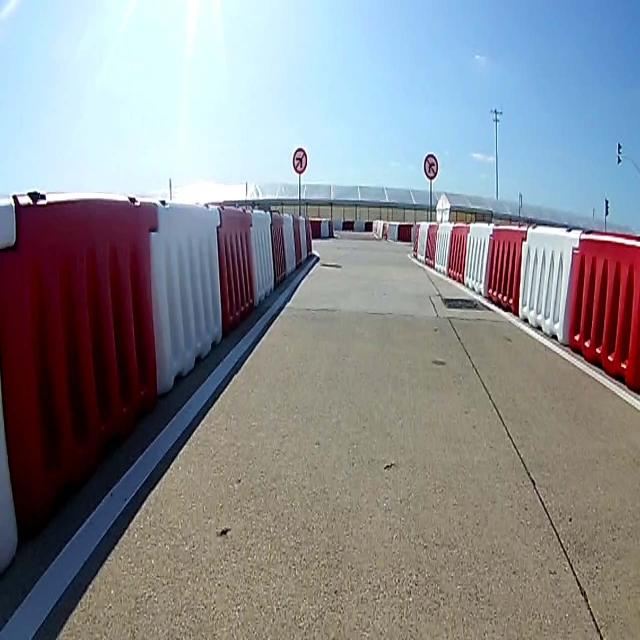sagadonulmez: (424, 154, 438, 181)
soladonulmez: (291, 147, 309, 174)
